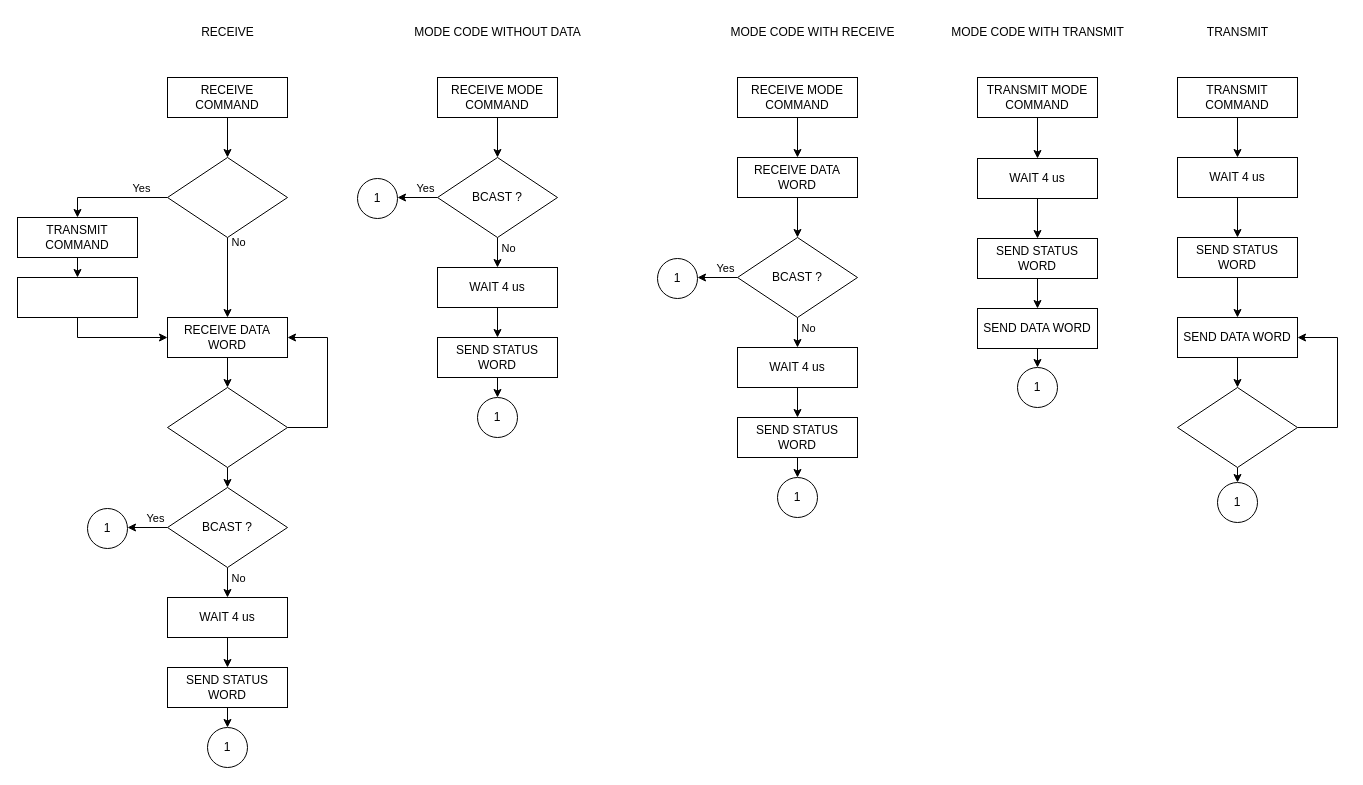
Some shapes in this 1363 by 785 pixel diagram are drawn without their labels. Here are the shapes that lost their labels. From the top down, the centre of each, then its label:
At (x=227, y=197): "CMD WORD RECEIVED ?".
At (x=77, y=297): "RECEIVE STATUS WORD".
At (x=227, y=427): "RCV DATA WORDS != DATA WORD INDX".
At (x=1237, y=427): "SEND DATA WORDS != DATA WORD INDX".
